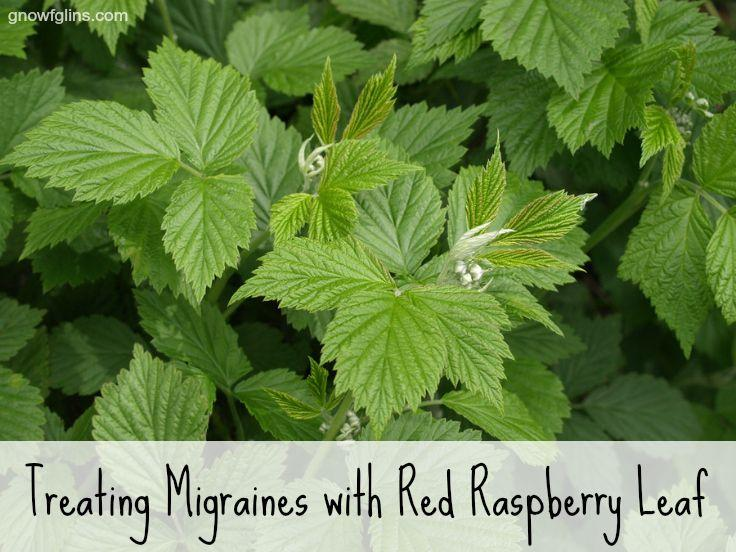Raspberry leaf: (319, 282, 516, 427), (6, 89, 184, 216), (138, 35, 265, 180), (221, 231, 406, 320), (162, 177, 258, 307), (463, 124, 509, 238), (499, 188, 600, 237), (478, 241, 582, 281)
